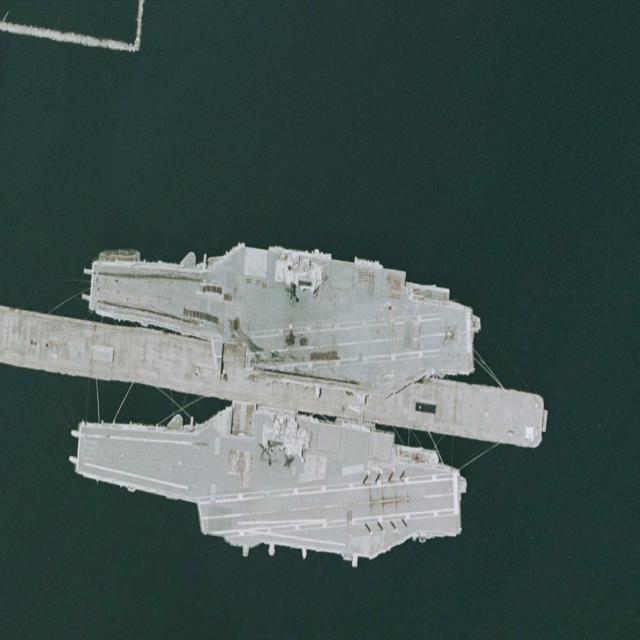Aircraft Carrier: (61, 379, 471, 590), (76, 217, 485, 411)
Dock: (38, 316, 544, 450)
